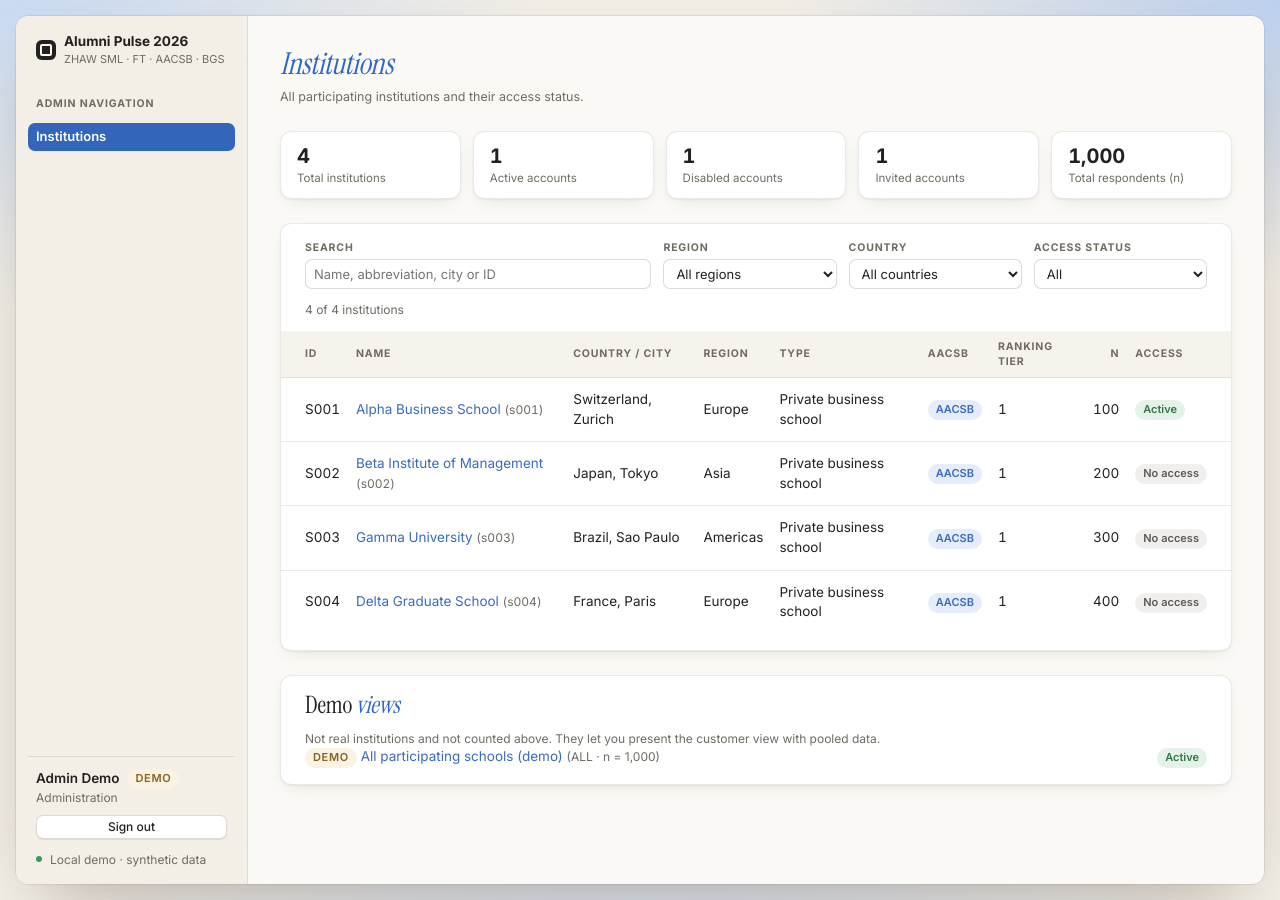
Scenario: Admin-Liste › filtert per Zugangsstatus
Check: the link "Alpha Business School" is shown, box [356,401,501,417]
Select "No access" in the dropdown labelled "Access status" at point(1120, 274), box [1034,259,1207,289]
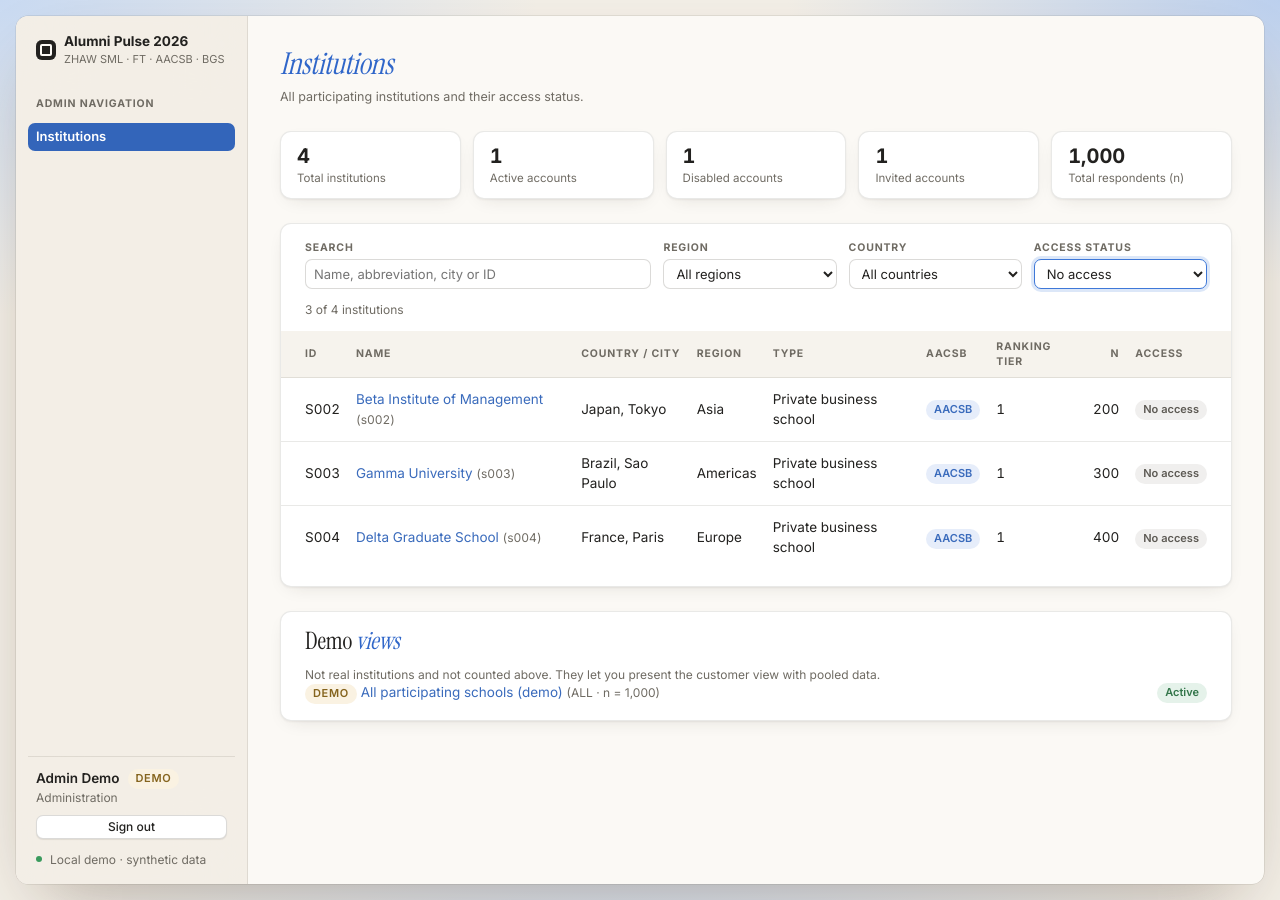
Check: the link "Delta Graduate School" is shown, box [356,529,499,545]
Check: the link "Alpha Business School" is gone
Check: the message with test id "result-count" shows "3 of 4", box [305,302,404,317]
